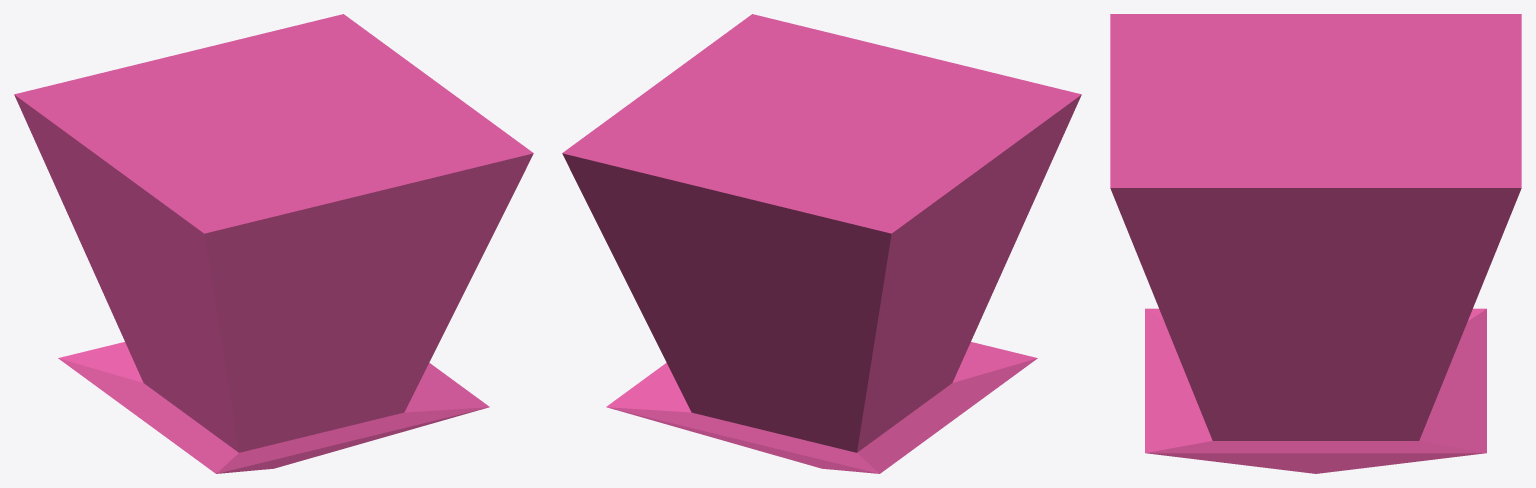
Rendered from Arrow.fbx.
The picture shows the model from 3 angles, left to right: view 1: azimuth 30°, elevation 25°; view 2: azimuth 150°, elevation 25°; view 3: azimuth 270°, elevation 25°; orthographic projection. The views are drawn at different scales.
Visible parts, largest first — view 1: Cube; view 2: Cube; view 3: Cube.
Part boxes in pixels (x1,y1,x2,y2): Cube: [14, 14, 533, 473]; Cube: [562, 14, 1081, 473]; Cube: [1110, 14, 1521, 473].
Size of the model in its own units: 1 by 1 by 1.
